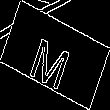M_NE: (31, 23, 79, 87)
